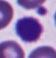D: (15, 16, 45, 42)
